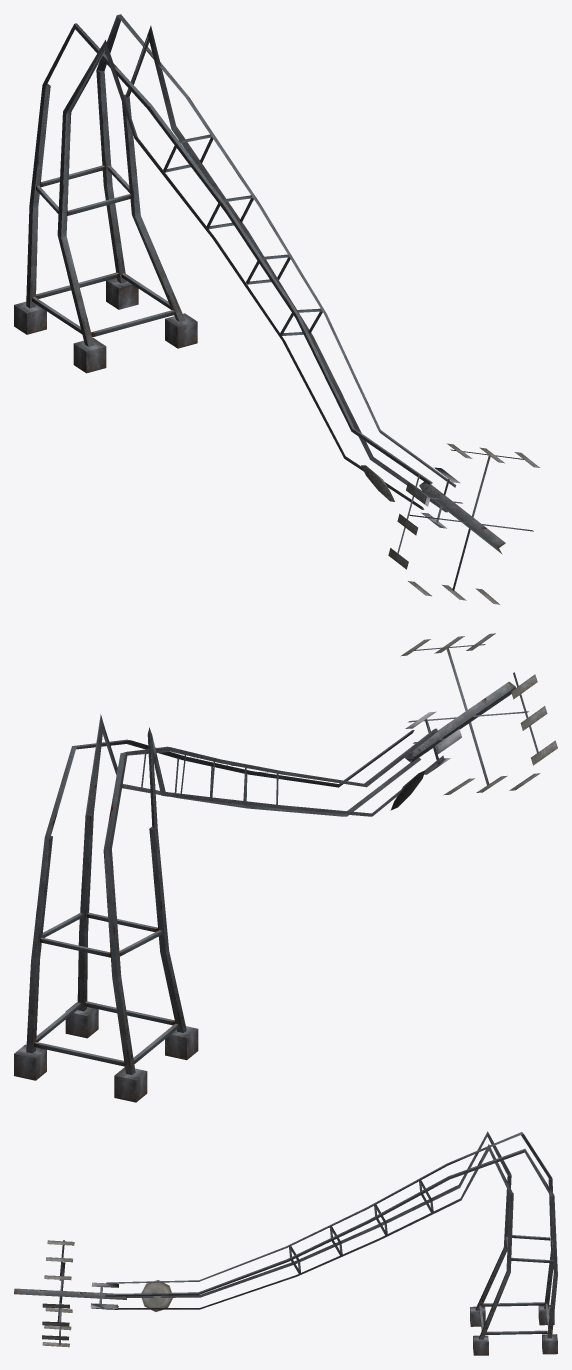
File: Vehicle_Tt001_lod2.glb
3 views of the same model, one above another, from view 1: azimuth 30°, elevation 25°; view 2: azimuth 150°, elevation 25°; view 3: azimuth 270°, elevation 25° (orthographic). The views are drawn at different scales.
Parts seen in each view (by area): view 1: tianwang_tt001_lod2; view 2: tianwang_tt001_lod2; view 3: tianwang_tt001_lod2.
Boxes of the visible parts, left/top/right/bottom form: tianwang_tt001_lod2: left=14, top=14, right=539, bottom=604; tianwang_tt001_lod2: left=14, top=633, right=557, bottom=1102; tianwang_tt001_lod2: left=14, top=1131, right=557, bottom=1355.
Size of the model in its own units: 4.57 by 9.36 by 22.7.
1 material, 1 textured.
